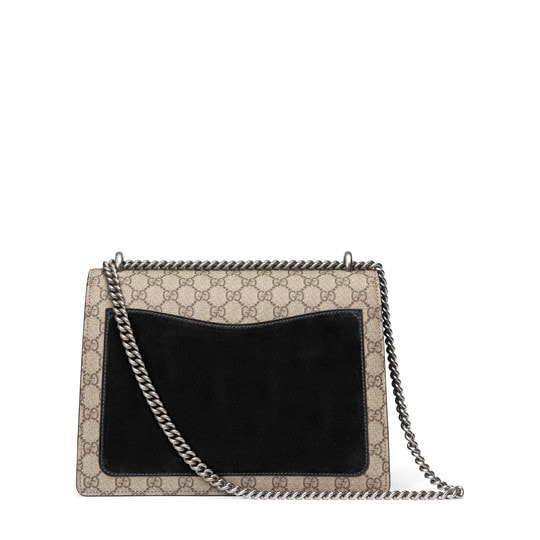Gucci: (58, 248, 437, 540), (126, 274, 353, 311)
